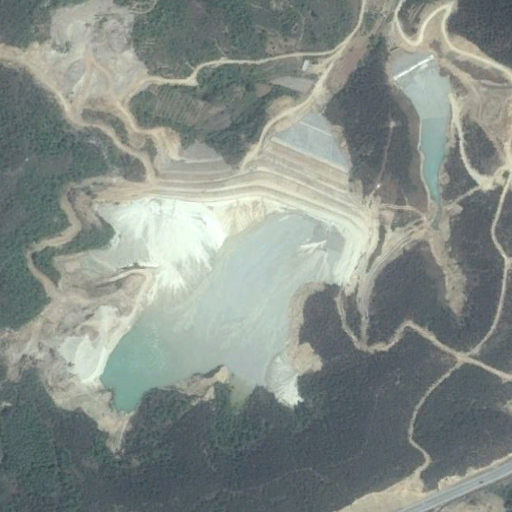tp: (84, 107, 366, 426), (383, 42, 455, 211)
